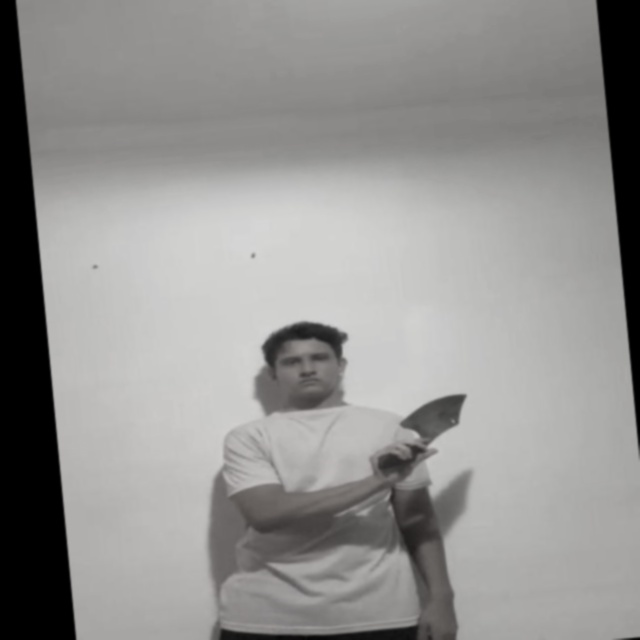Sharp-Object: (396, 389, 470, 439)
